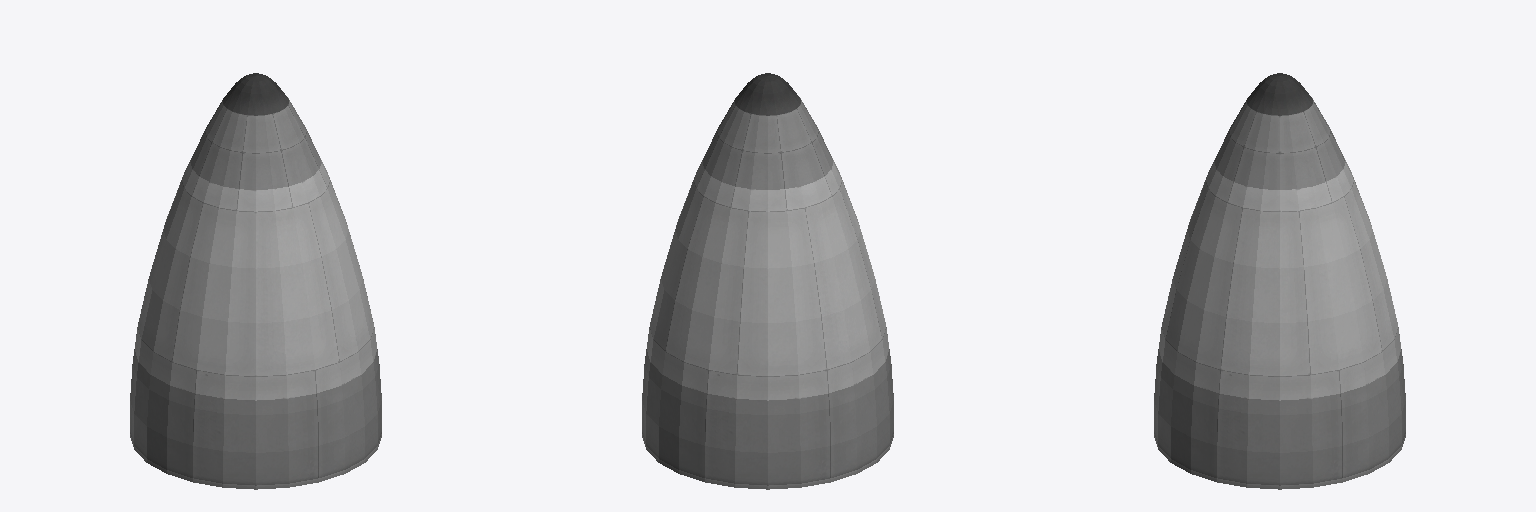
3 renders of one model, left to right at view 1: azimuth 30°, elevation 25°; view 2: azimuth 150°, elevation 25°; view 3: azimuth 270°, elevation 25°, orthographic.
Parts seen in each view (by area): view 1: Centaur_Nose_A; view 2: Centaur_Nose_A; view 3: Centaur_Nose_A.
Boxes of the visible parts, x1,y1,x2,y2 form: Centaur_Nose_A: [130, 73, 381, 489]; Centaur_Nose_A: [642, 73, 893, 489]; Centaur_Nose_A: [1154, 73, 1405, 489].
Size of the model in its own units: 1.88 by 2.96 by 1.88.
1 materials, 1 textured.